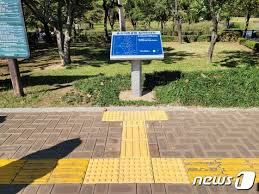guide_blocks: (1, 156, 259, 182), (119, 122, 149, 155), (103, 110, 169, 121)
